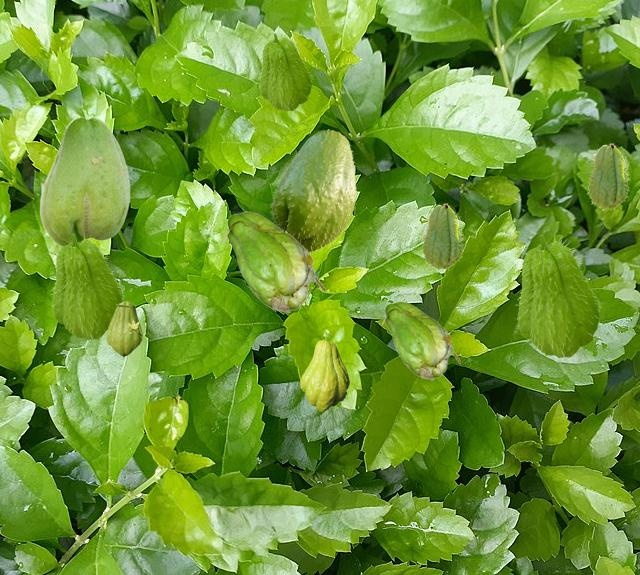sayote: (39, 116, 129, 246), (269, 129, 356, 253), (515, 233, 601, 357), (222, 211, 323, 312), (50, 232, 124, 339), (381, 301, 459, 379), (258, 32, 312, 110), (300, 332, 348, 410), (587, 143, 629, 210), (421, 203, 463, 270), (106, 301, 145, 356)
